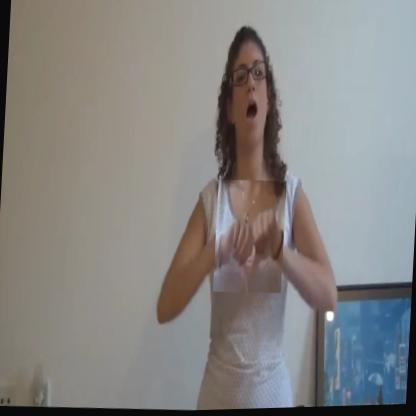HowAreYou: (212, 179, 286, 296)
